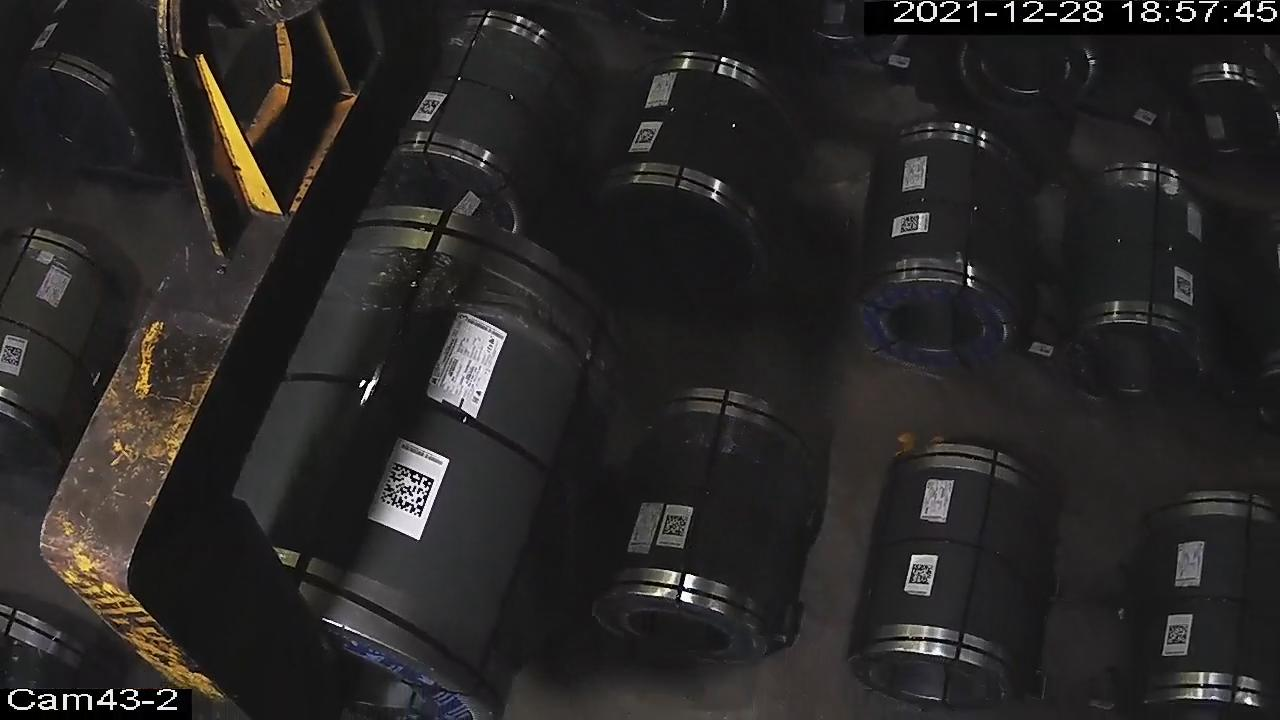data matrix: (373, 456, 440, 519), (906, 561, 937, 590), (661, 512, 691, 540), (1164, 621, 1193, 648), (1, 341, 26, 371), (415, 96, 443, 120), (898, 213, 921, 237), (634, 126, 659, 148), (1174, 273, 1195, 299)
